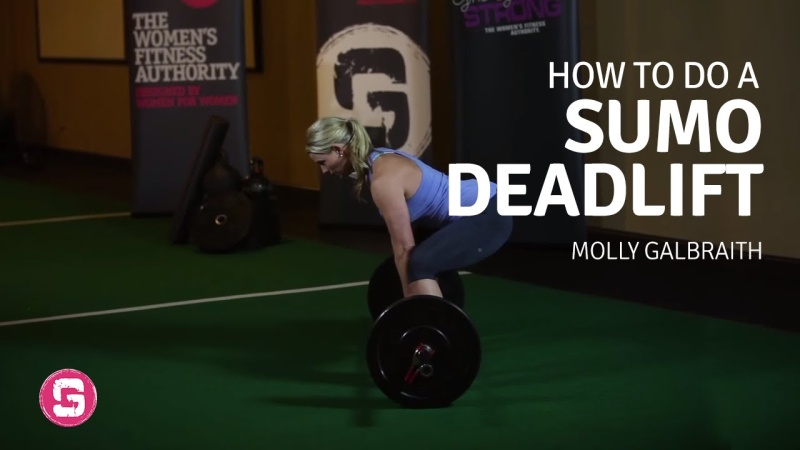barbell: (360, 292, 485, 412)
